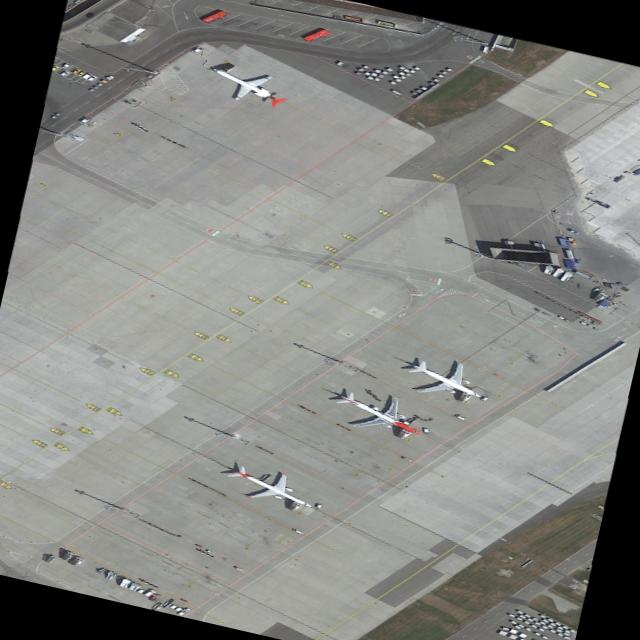large-vehicle: (143, 587, 159, 596)
plane: (190, 442, 345, 531), (305, 376, 448, 454), (382, 345, 510, 416), (184, 50, 308, 117)
small-vehicle: (452, 413, 468, 420), (58, 69, 71, 75), (71, 66, 81, 73), (60, 60, 70, 67), (81, 71, 92, 77), (87, 73, 96, 80), (420, 426, 428, 432)
